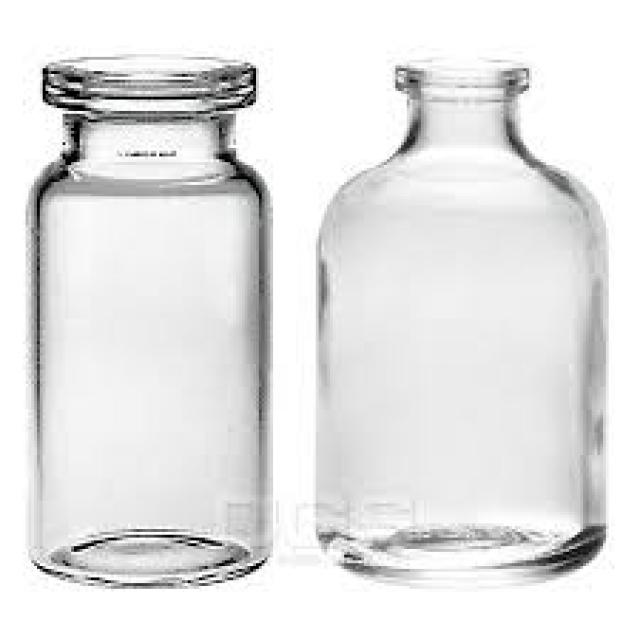Glass-Non-Biodegradable but Recyclable-: (314, 68, 607, 588), (31, 66, 272, 592)
